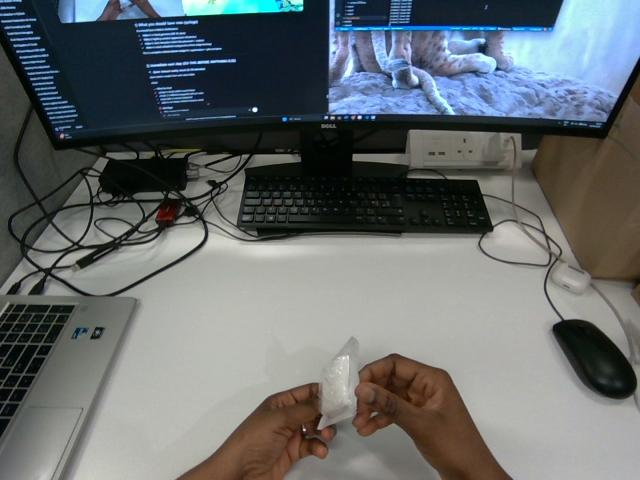gauze: (318, 337, 358, 429)
